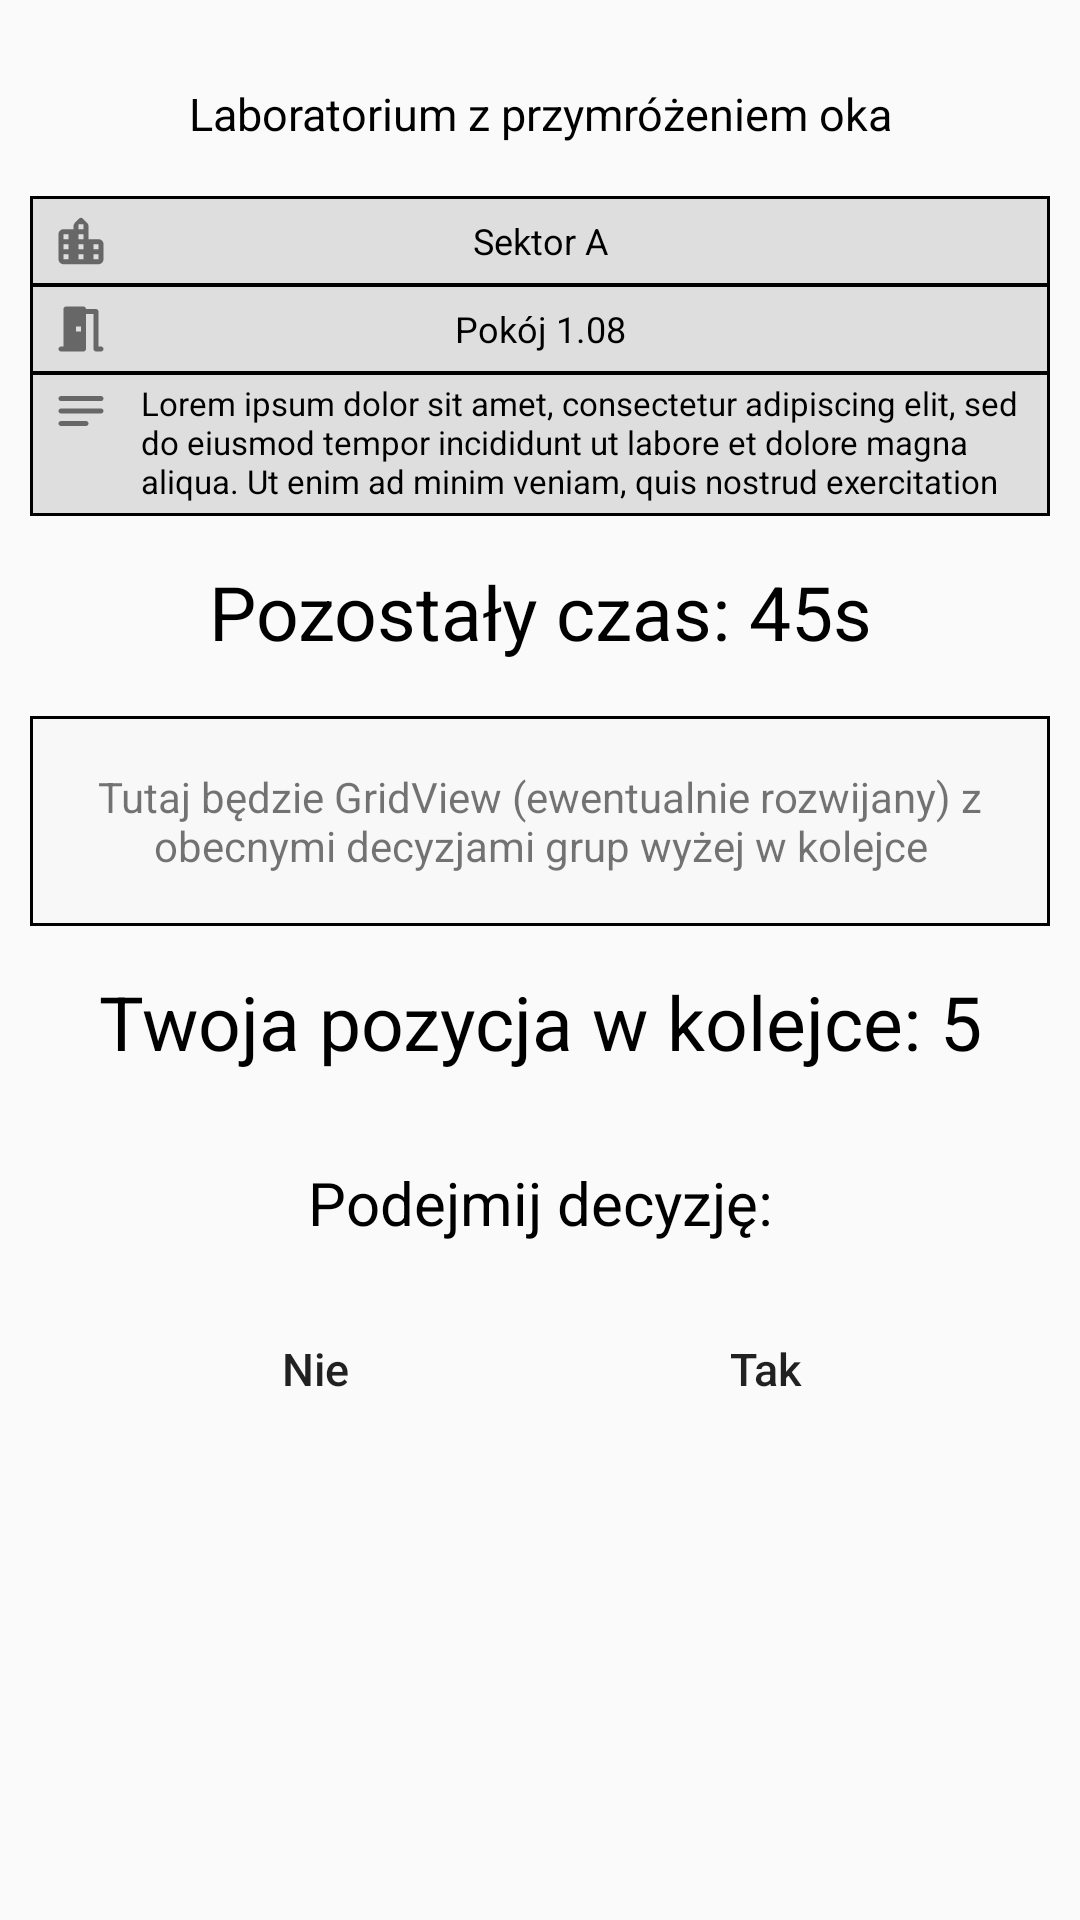

Icons on this 1080w x 1920h Android screen, each with its box as bbox=(x1, y1, x2, y2):
reservation description: bbox=(58, 396, 104, 426)
reservation room: bbox=(58, 306, 104, 352)
reservation sector: bbox=(58, 218, 104, 265)
